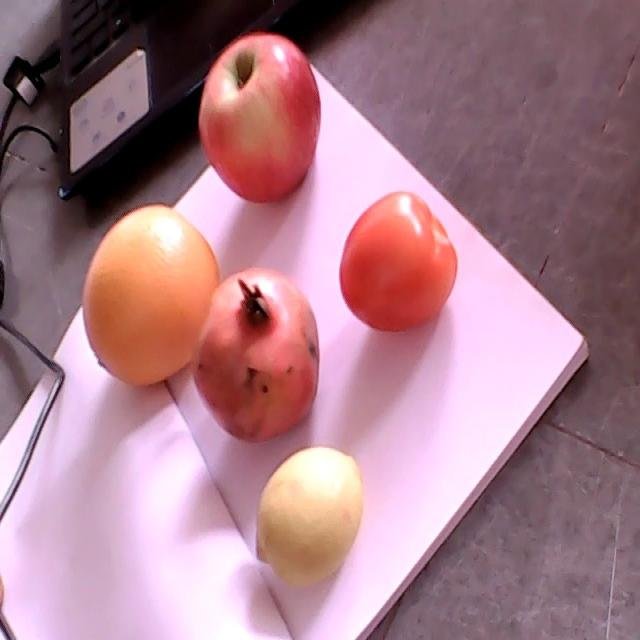apple: (198, 36, 320, 200)
lemon: (255, 447, 363, 591)
orange: (81, 203, 217, 386)
pomegranate: (190, 267, 321, 446)
tomato: (340, 190, 460, 333)
